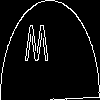W: (25, 25, 48, 70)
